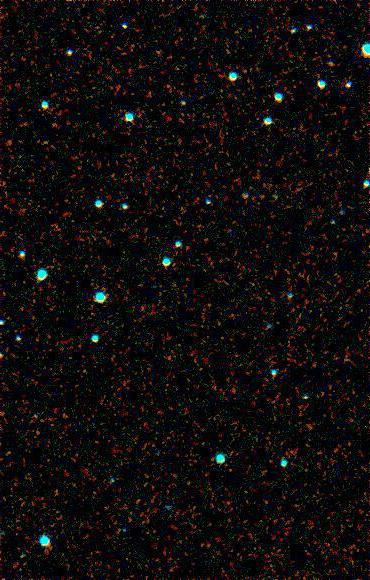star: (245, 181, 275, 211)
